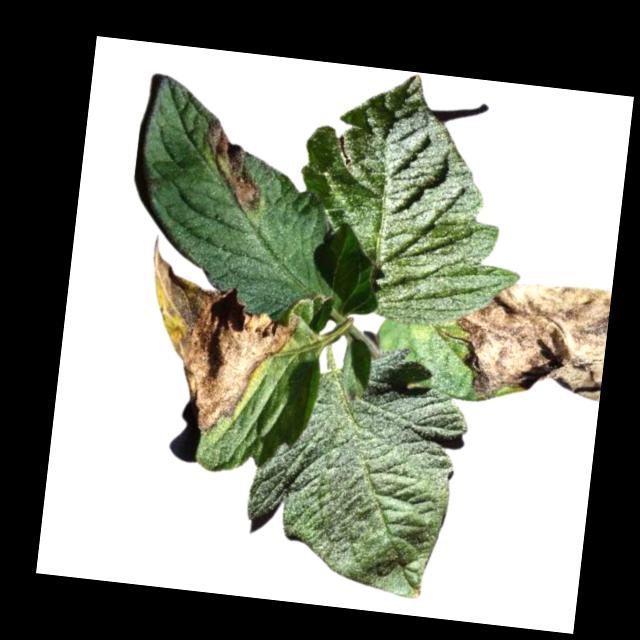Late_blight: (135, 236, 307, 443), (449, 269, 612, 414), (200, 119, 267, 209)
healthy: (284, 61, 541, 333), (236, 332, 475, 601)
